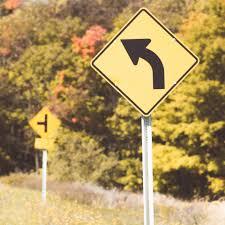curveLeft: (87, 5, 204, 121)
intersection: (24, 103, 65, 138)
